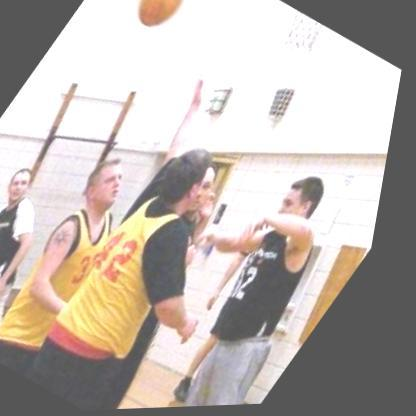basketball: (121, 0, 195, 37)
